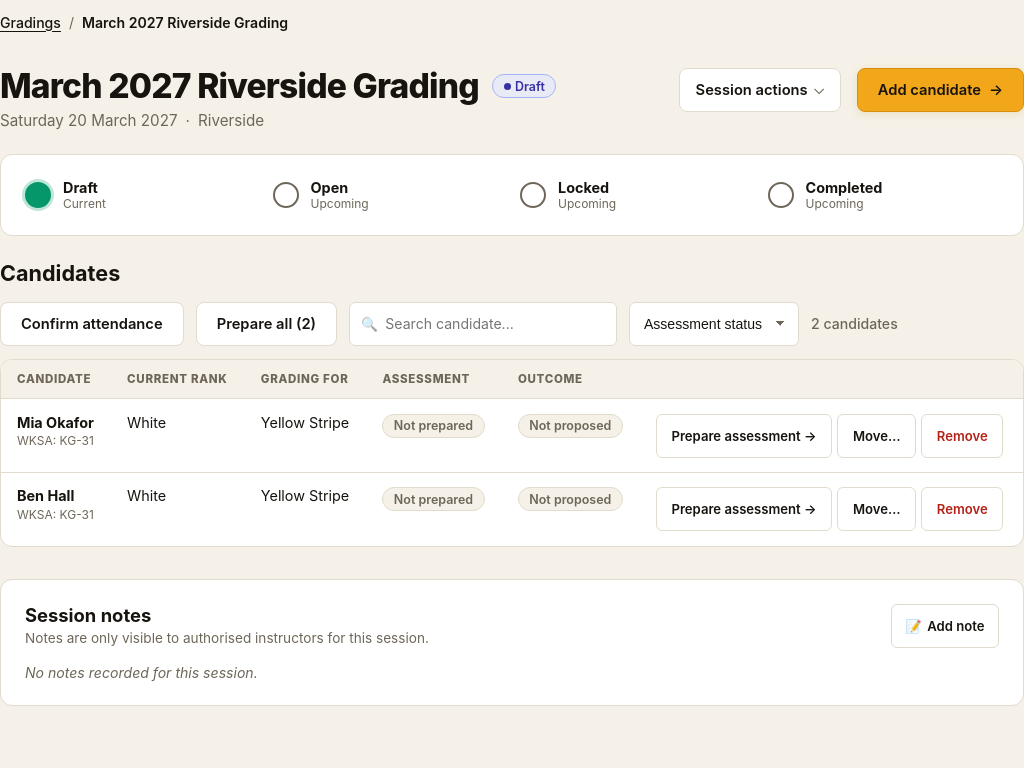
it: GradingSessionDetailScreen opening a draft session › asks for confirmation, with the roster count, before opening
Expected: the text "Ben Hall" is shown, [17,487,74,504]
Click the button "Session actions ⌵". click: coordinates (760, 90)
box: [679,68,841,112]
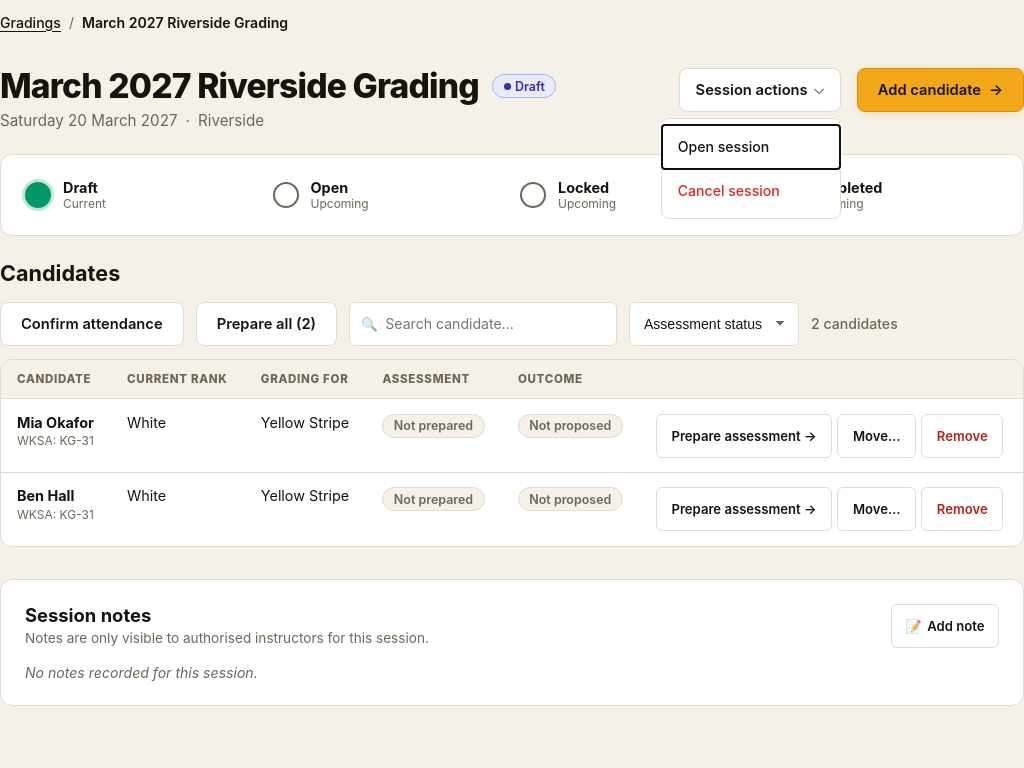
Click the menu item "Open session". click: coordinates (751, 147)
box: [662,125,840,169]
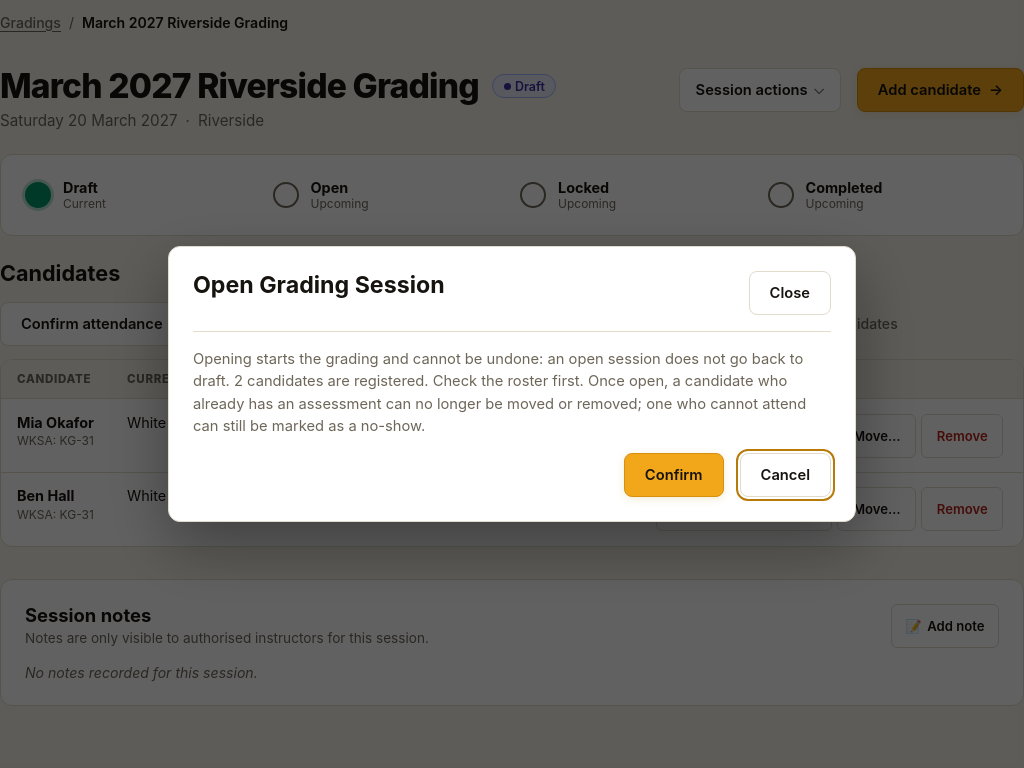
Result: the dialog "Open Grading Session" shows "2 candidates are registered" at [193,350,806,434]
Result: the dialog "Open Grading Session" shows "cannot be undone" at [193,350,806,434]
Click the button "Confirm". click: coordinates (674, 475)
box: [624,453,724,497]
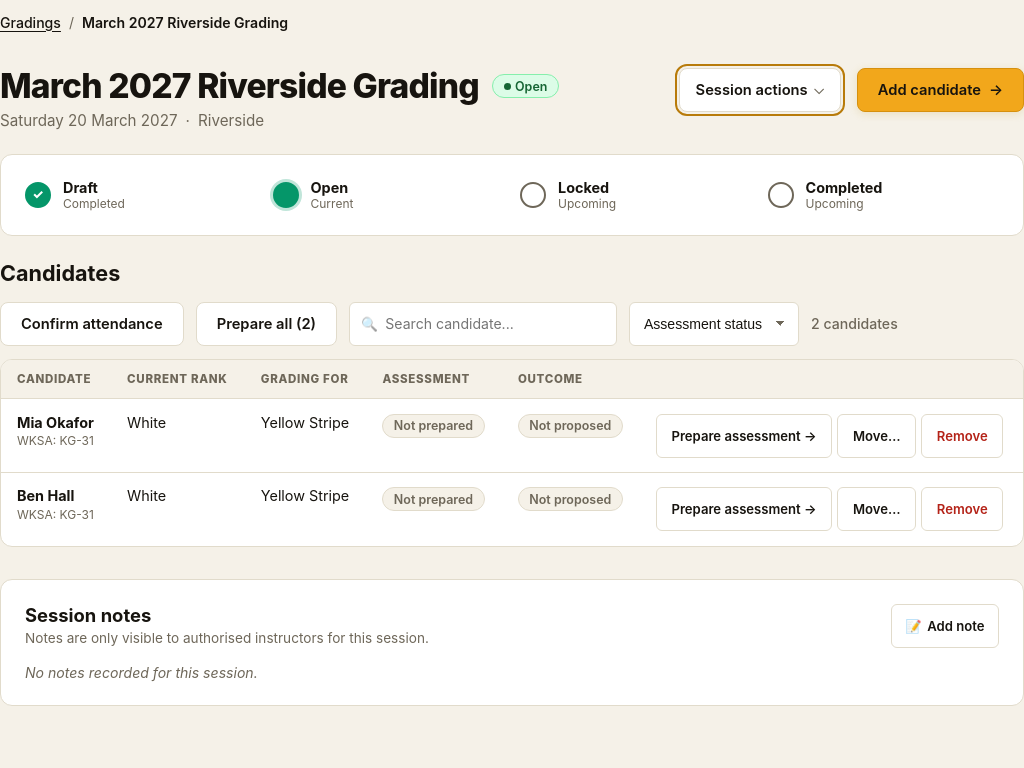
Result: the dialog is gone
